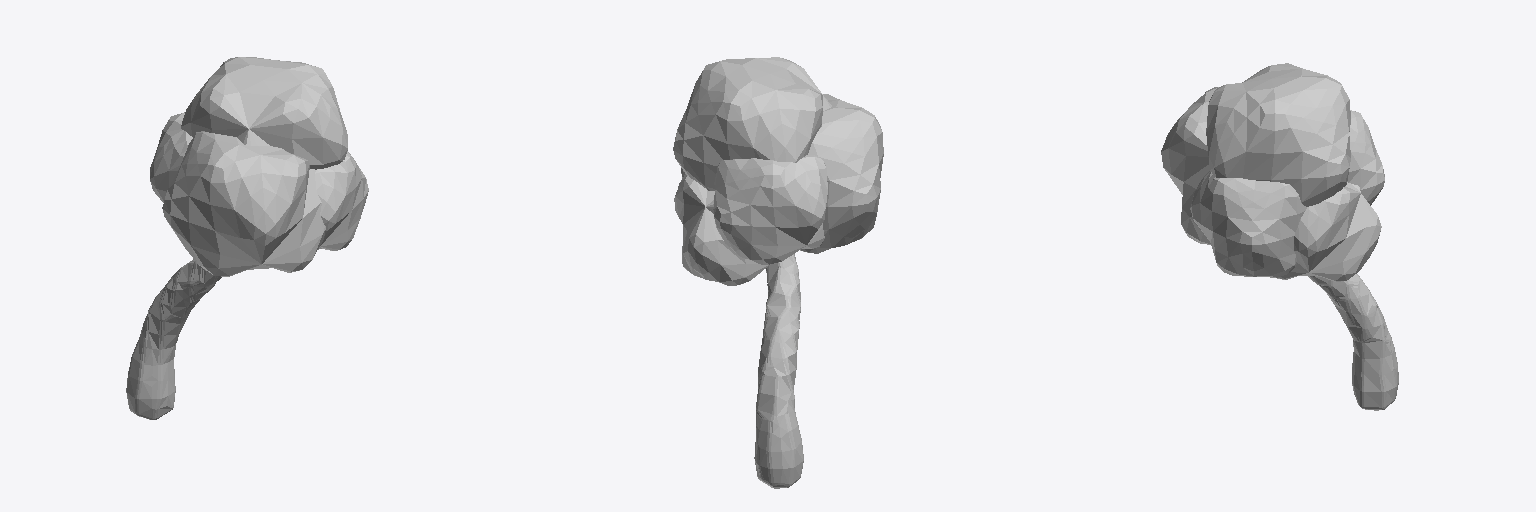
The model's file is tree.obj.
The picture shows the model from 3 angles: view 1: azimuth 30°, elevation 25°; view 2: azimuth 150°, elevation 25°; view 3: azimuth 270°, elevation 25°; orthographic projection.
Visible parts, largest first — view 1: Sphere.002_Sphere.003, Sphere_Sphere.001, Cylinder, Sphere.003_Sphere.004, Sphere.001_Sphere.002; view 2: Sphere_Sphere.001, Sphere.001_Sphere.002, Cylinder, Sphere.002_Sphere.003, Sphere.004_Sphere.005; view 3: Sphere_Sphere.001, Sphere.003_Sphere.004, Sphere.004_Sphere.005, Cylinder, Sphere.002_Sphere.003, Sphere.001_Sphere.002.
Boxes of the visible parts, <box> form: Sphere.002_Sphere.003: <box>162,131,325,276</box>; Sphere_Sphere.001: <box>181,57,347,169</box>; Cylinder: <box>126,259,221,419</box>; Sphere.003_Sphere.004: <box>315,151,368,250</box>; Sphere.001_Sphere.002: <box>150,112,192,202</box>; Sphere_Sphere.001: <box>673,57,831,190</box>; Sphere.001_Sphere.002: <box>713,154,827,264</box>; Cylinder: <box>754,254,803,488</box>; Sphere.002_Sphere.003: <box>800,94,883,253</box>; Sphere.004_Sphere.005: <box>674,174,768,285</box>; Sphere_Sphere.001: <box>1206,63,1350,206</box>; Sphere.003_Sphere.004: <box>1190,171,1306,277</box>; Sphere.004_Sphere.005: <box>1277,182,1381,281</box>; Cylinder: <box>1308,274,1398,410</box>; Sphere.002_Sphere.003: <box>1161,87,1218,244</box>; Sphere.001_Sphere.002: <box>1347,110,1384,205</box>.
Size of the model in its own units: 5.18 by 9.23 by 5.47.